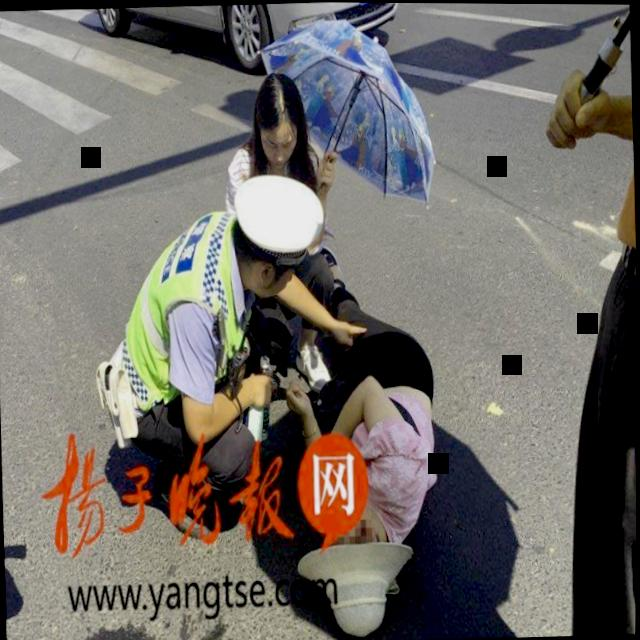Fall-Detected: (272, 234, 455, 604)
